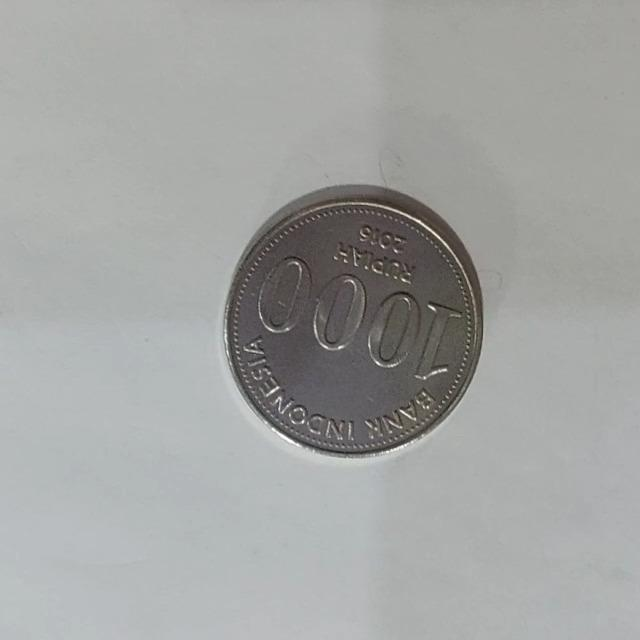Rp100: (221, 182, 485, 459)
